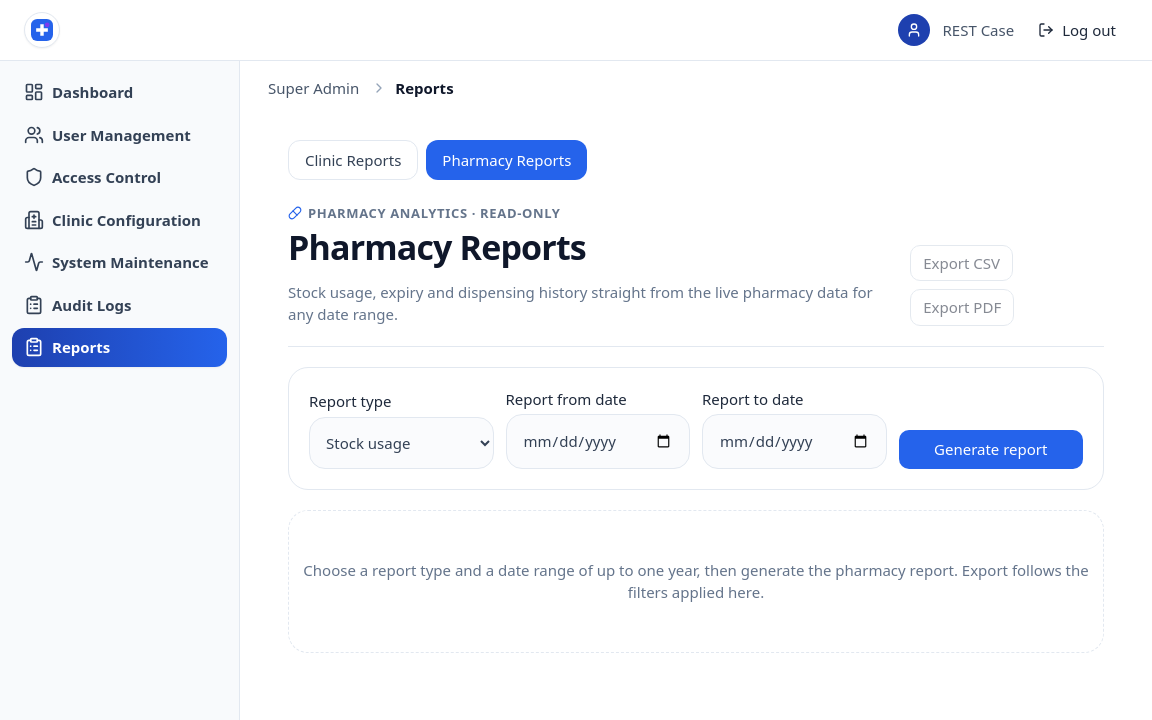
Scenario: pharmacy reports page — REST cases › validates the date range before any request
The image size is (1152, 720).
Step 1. Type "2026-02-01" into the date field labelled "Report from date" → (598, 441), box [506,414,690,469]
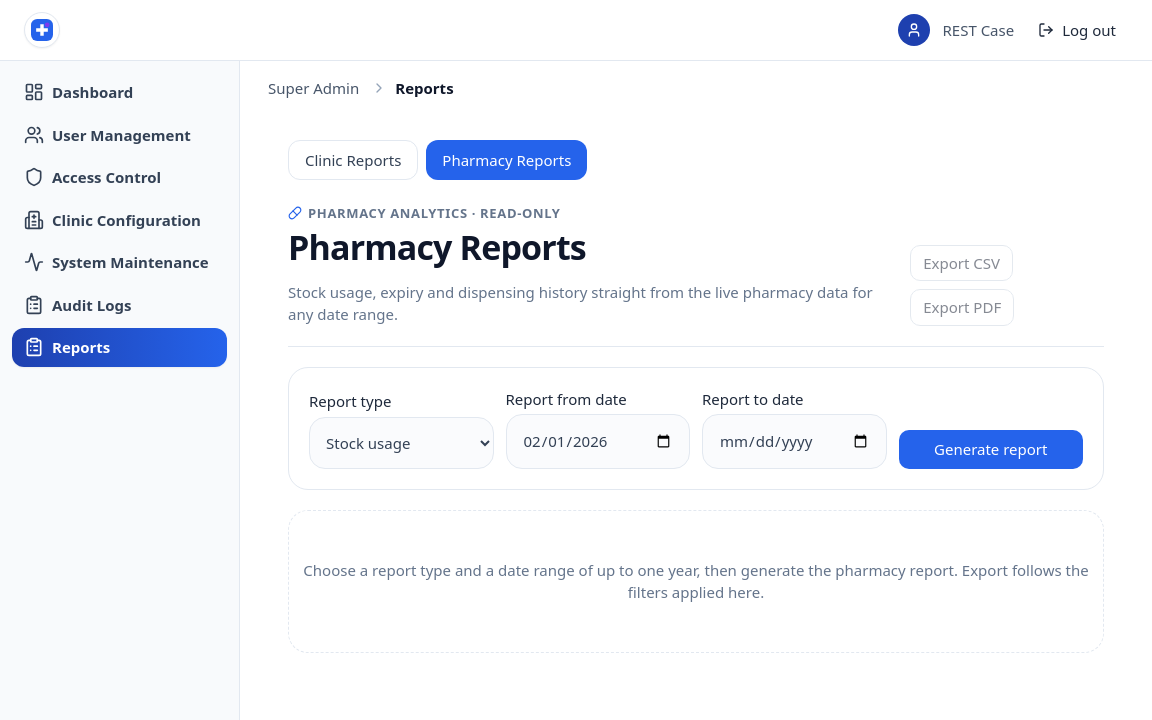
Step 2. Type "2026-01-01" into the date field labelled "Report to date" → (794, 441), box [702,414,886,469]
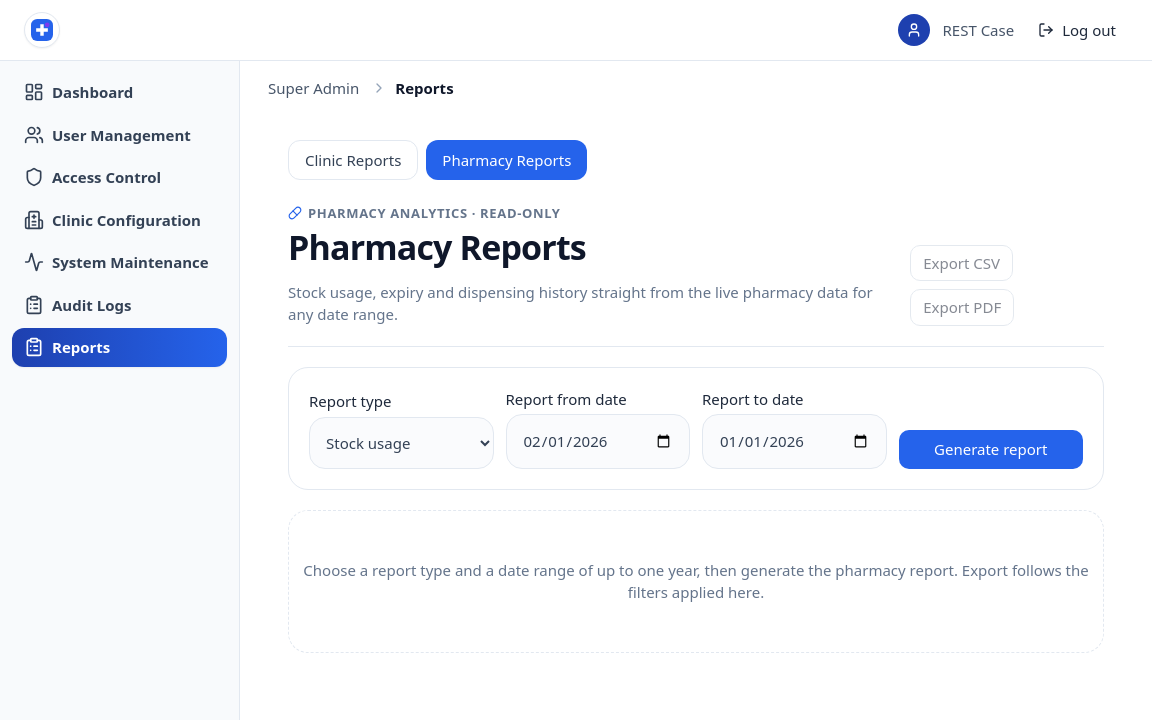
Step 3. Click the button "Generate report" → (991, 449), box [898,430,1083,469]
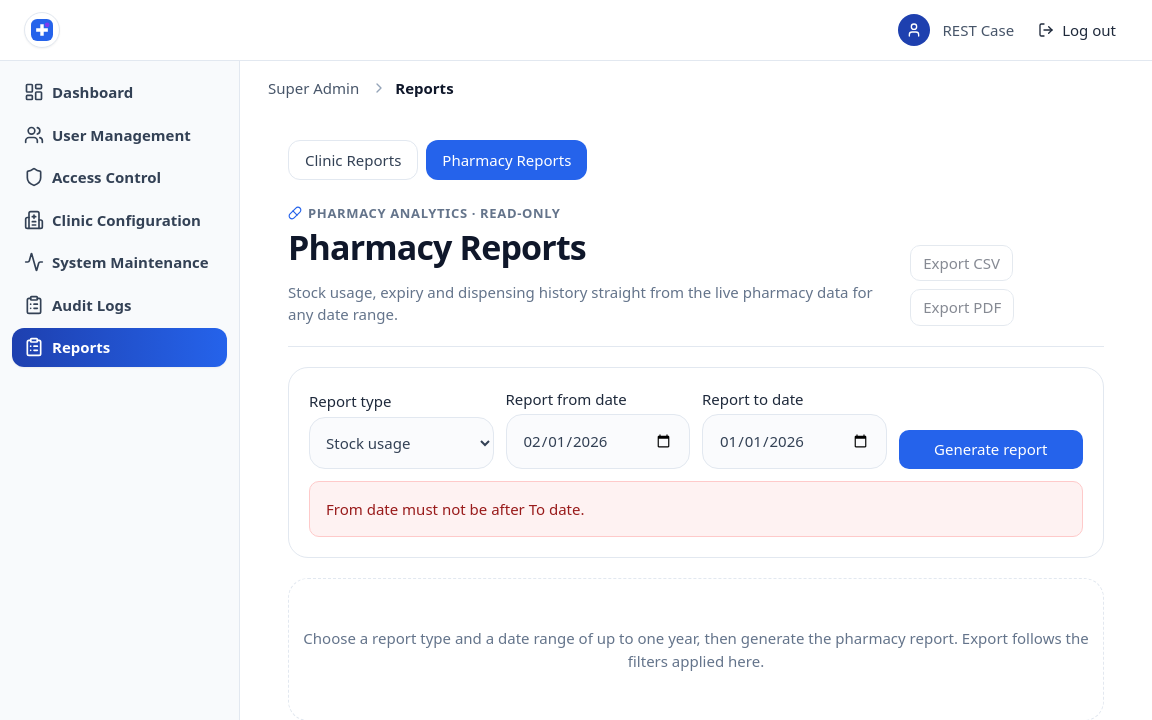
Expected: the button "Export CSV" is disabled, [910,245,1013,281]
Result: the message "From date must not be after To date." is shown at [309,481,1083,537]
